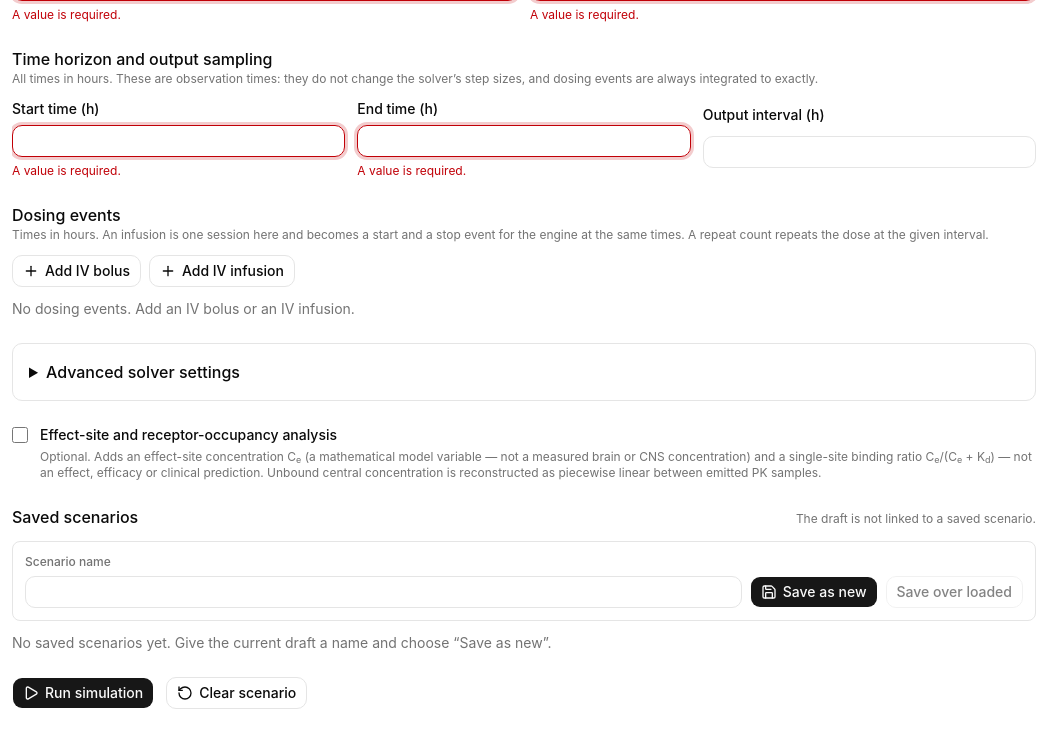
Test: effect-site editor › renders effect-site field symbols and the binding ratio as semantic notation
(page scrolled)
What coordinates should you click on to do the following:
click the checkbox with test id "effect-site-enabled"
I would click on:
 (20, 435)
Its box is [12,427,28,443].
(page scrolled)
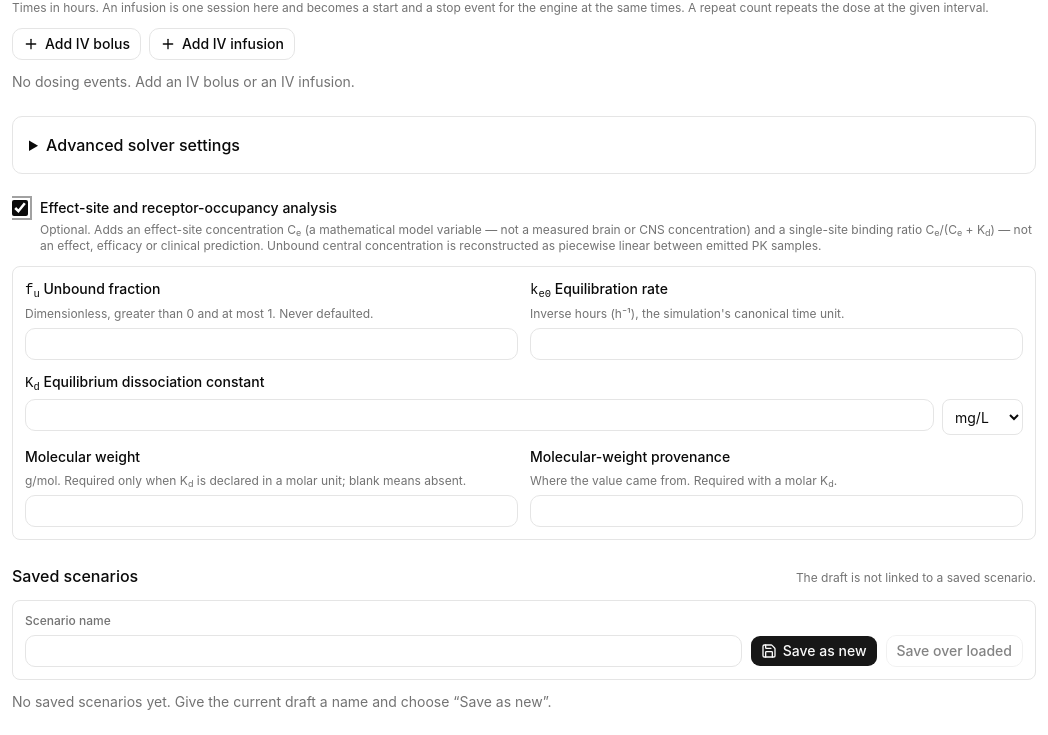
Check: the text "u" is shown, box [33,288,40,300]
Check: the text "e0" is shown, box [538,288,551,300]
Check: the text "d" next to "Equilibrium dissociation constant" is shown, box [33,381,40,393]
